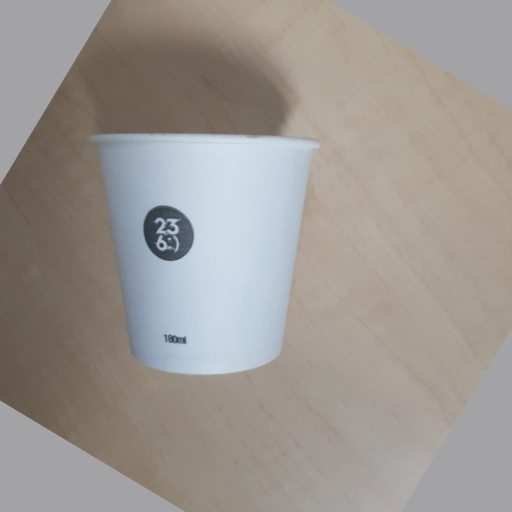Paper_1: (89, 128, 325, 376)
